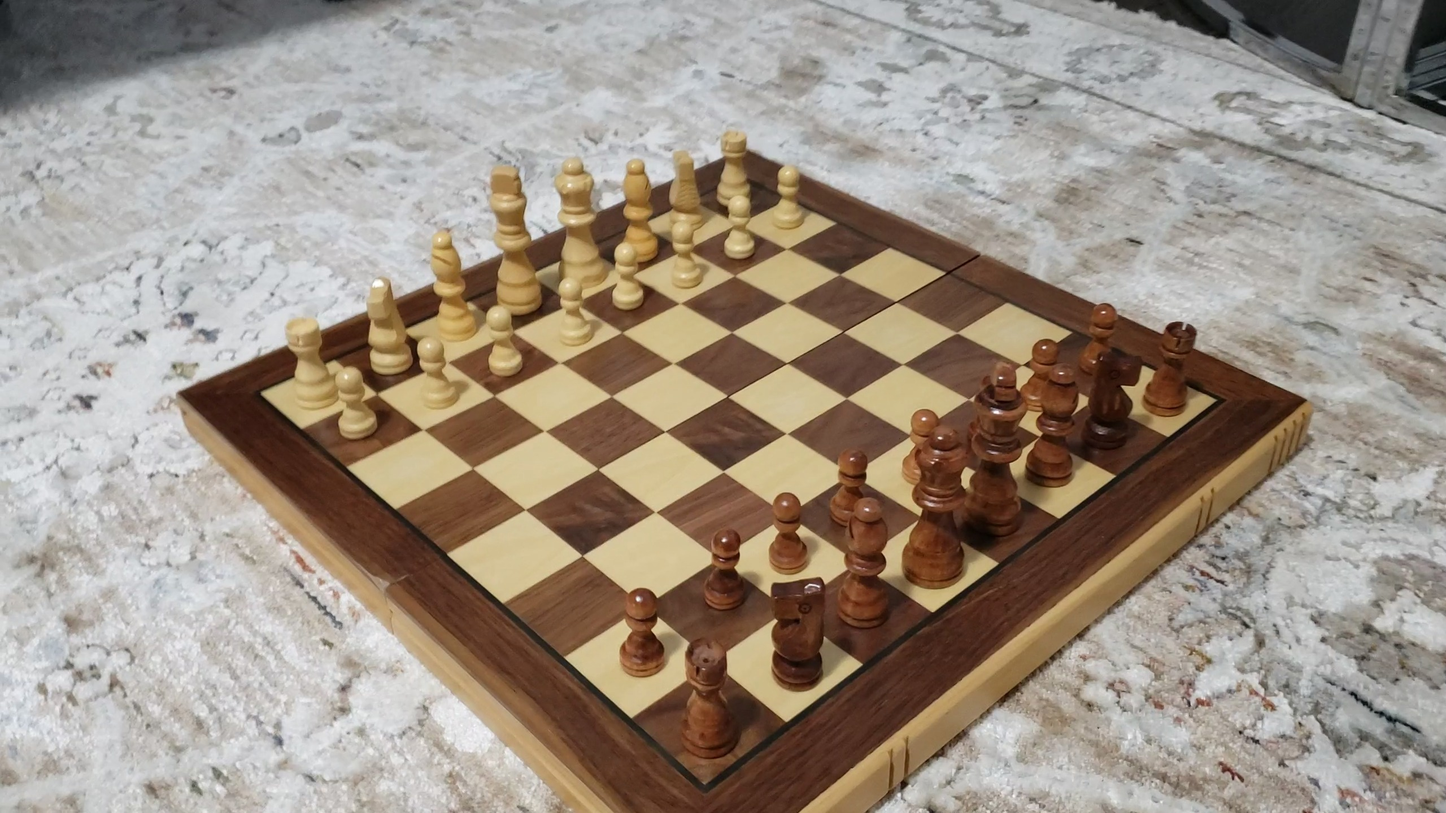black-bishop: (839, 497, 891, 630), (1027, 362, 1081, 484)
black-king: (963, 358, 1031, 536)
black-knight: (767, 576, 829, 691), (1083, 351, 1142, 450)
black-pawn: (617, 584, 668, 679), (702, 526, 749, 615), (766, 488, 809, 575), (1019, 335, 1063, 417), (900, 405, 942, 488), (828, 445, 869, 529), (1078, 298, 1120, 378)
black-queen: (900, 427, 973, 588)
black-rook: (677, 636, 737, 760), (1141, 320, 1198, 417)
white-bishop: (427, 225, 476, 340), (620, 155, 656, 265)
white-king: (485, 158, 541, 319)
white-knight: (364, 276, 410, 374), (667, 145, 704, 233)
white-pawn: (660, 206, 713, 295), (329, 365, 384, 445), (477, 302, 530, 383), (411, 334, 464, 414), (550, 270, 599, 351), (602, 239, 651, 316), (715, 190, 763, 266), (765, 158, 813, 234)
white-queen: (554, 151, 603, 297)
white-rook: (284, 314, 337, 412), (713, 125, 753, 214)
